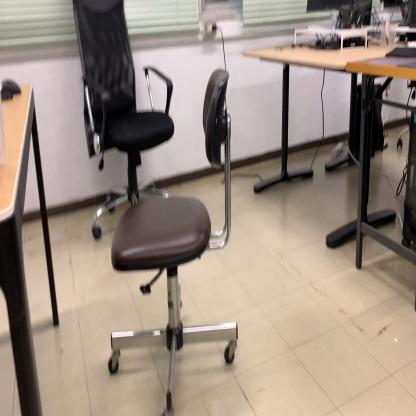chair: (104, 64, 240, 416), (70, 2, 176, 243)
